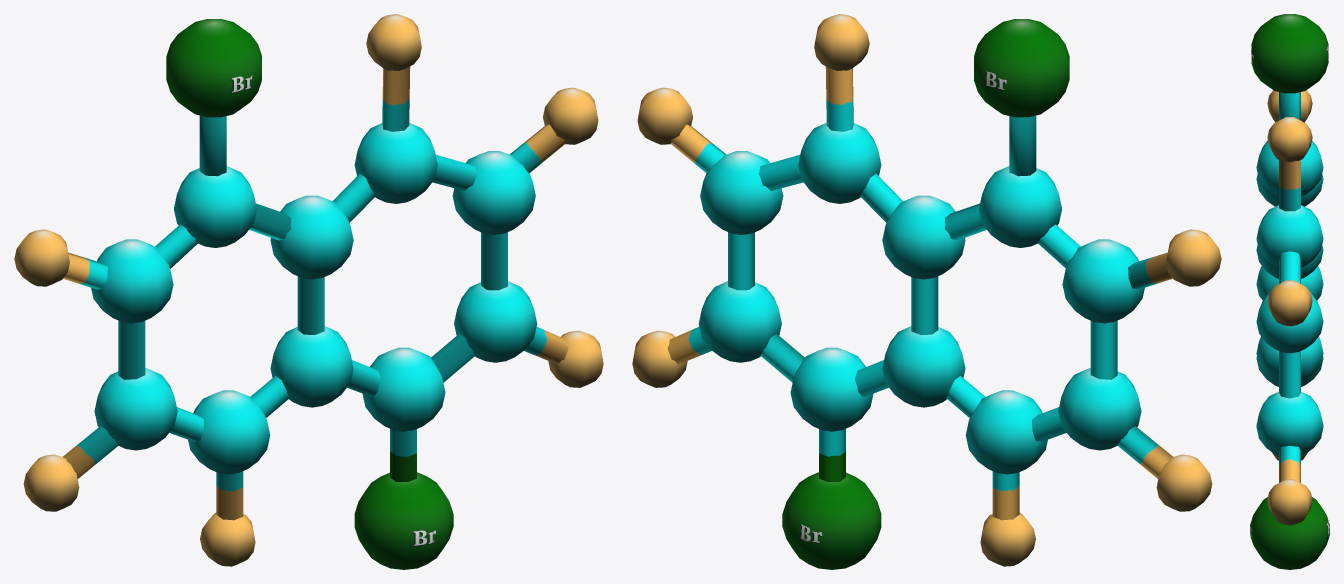
File: DibromoNaphthalene.dae
The picture shows the model from 3 angles, left to right: view 1: azimuth 30°, elevation 25°; view 2: azimuth 150°, elevation 25°; view 3: azimuth 270°, elevation 25°; orthographic projection. The views are drawn at different scales.
Parts seen in each view (by area): view 1: polySurface192; view 2: polySurface192; view 3: polySurface192.
Part boxes in pixels (box(x1,y1,x2,y2)): polySurface192: box(14, 14, 603, 569); polySurface192: box(632, 14, 1221, 569); polySurface192: box(1250, 14, 1329, 569).
Bounding box in the file's own units: 6.03 × 5.85 × 0.8904.
1 material, 1 textured.
